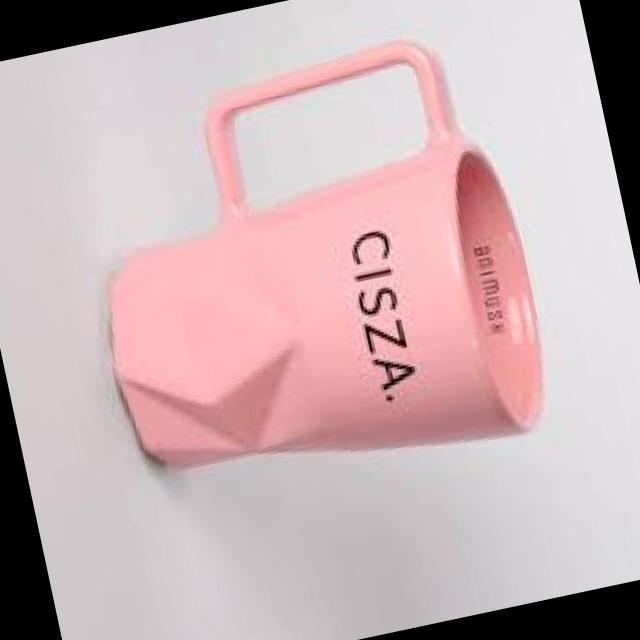Coffee Mug: (58, 21, 563, 514)
